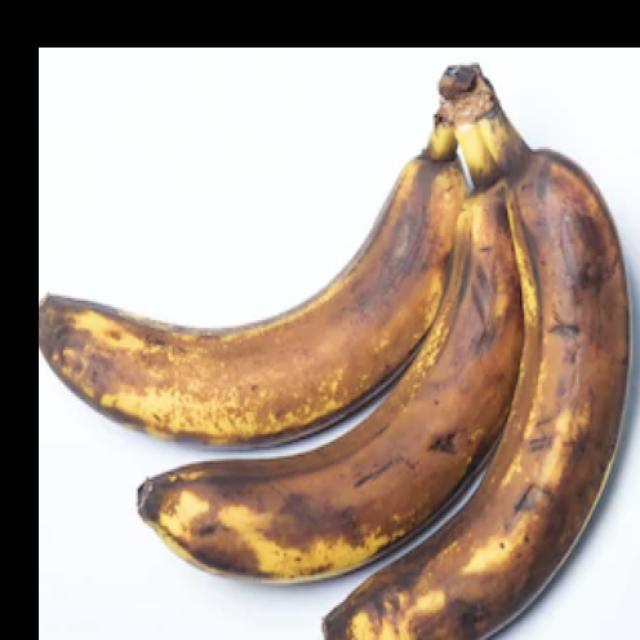banana: (16, 18, 550, 523)
